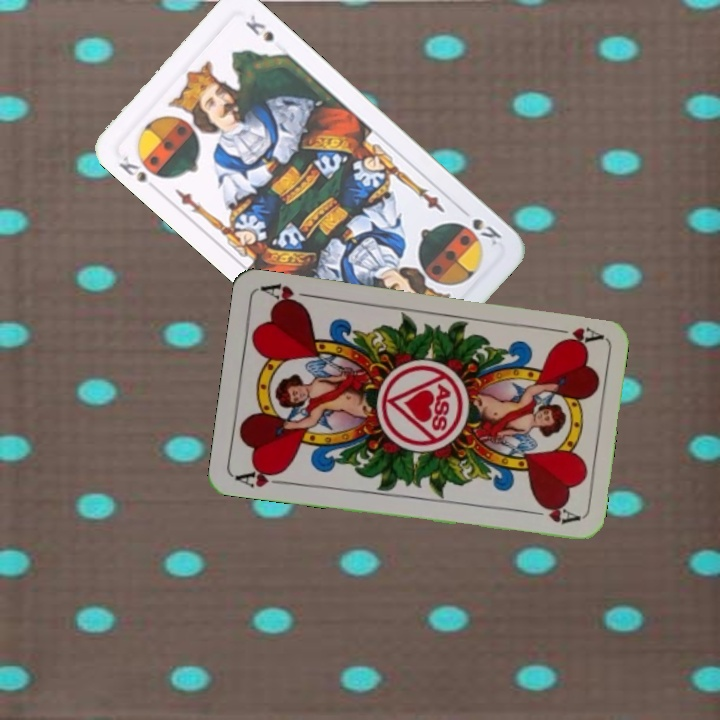HA: (232, 463, 291, 490), (545, 323, 604, 347)
SK: (455, 203, 505, 248), (114, 152, 149, 186)
